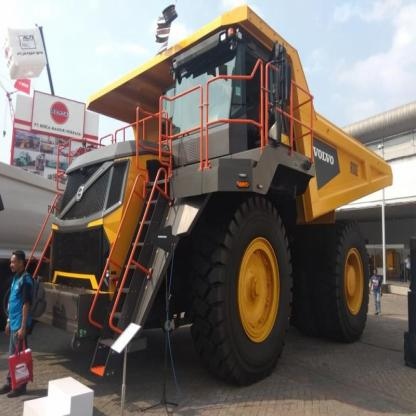dump_truck: (38, 24, 395, 375)
